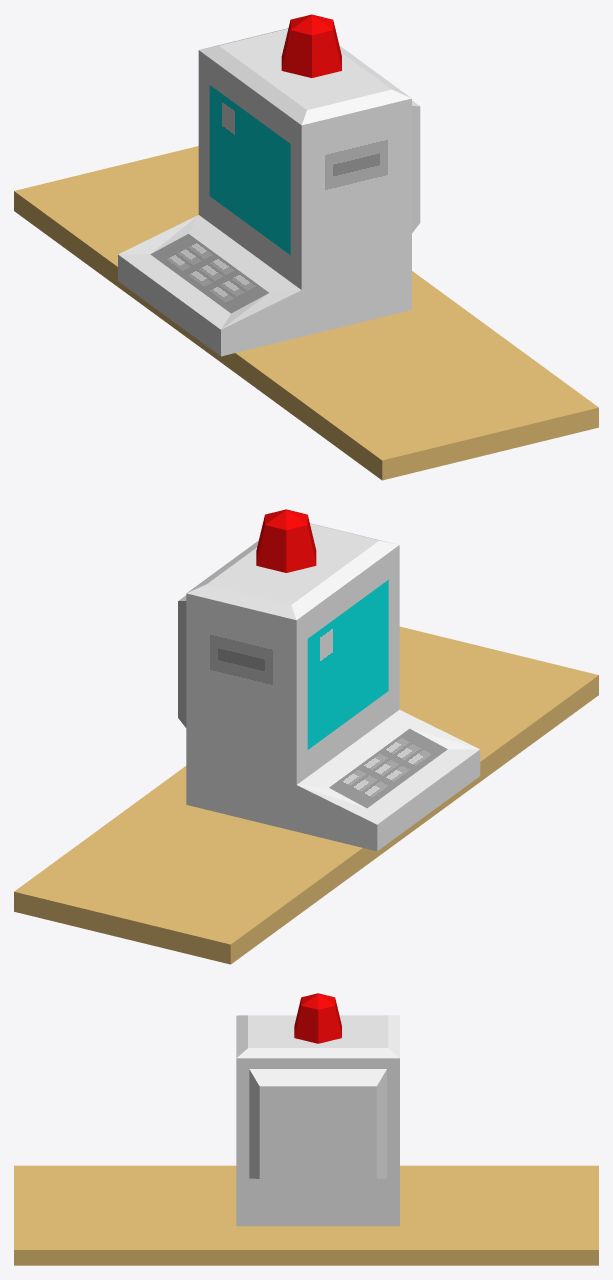
Rendered from modelo.obj.
3 views of the same model, one above another, from view 1: azimuth 30°, elevation 25°; view 2: azimuth 150°, elevation 25°; view 3: azimuth 270°, elevation 25° (orthographic). The views are drawn at different scales.
Visible parts, largest first — view 1: polygon1, polygon0; view 2: polygon1, polygon0; view 3: polygon0, polygon1.
Boxes of the visible parts, box(x1,y1,x2,y2) form: polygon1: box(118, 14, 420, 356); polygon0: box(14, 146, 598, 480); polygon1: box(178, 509, 480, 851); polygon0: box(14, 626, 598, 964); polygon0: box(14, 1165, 598, 1265); polygon1: box(236, 993, 399, 1226).
Size of the model in its own units: 18.66 by 22.16 by 50.
2 materials, 2 textured.
